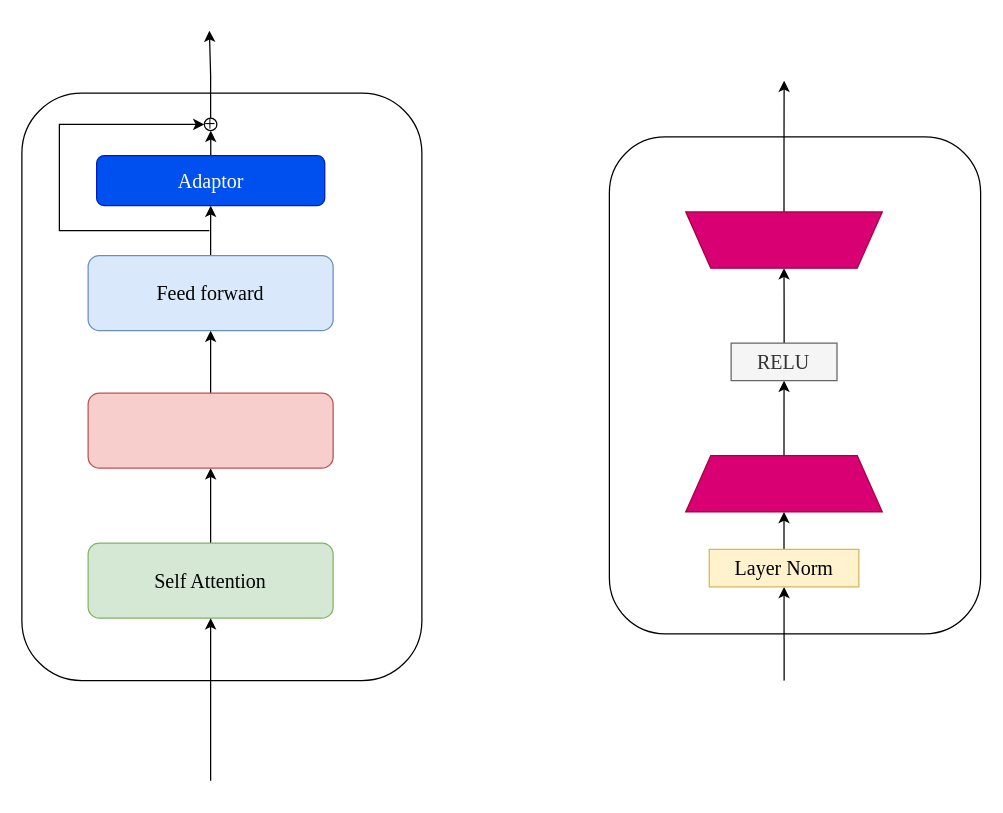
Some shapes in this 1003 by 813 pixel diagram are drawn without their labels. Each missing label, with the centre of its shape:
"Cross Attention" belongs at point 210,430.
"Down projection" belongs at point 783,483.
"Up projection" belongs at point 783,239.
